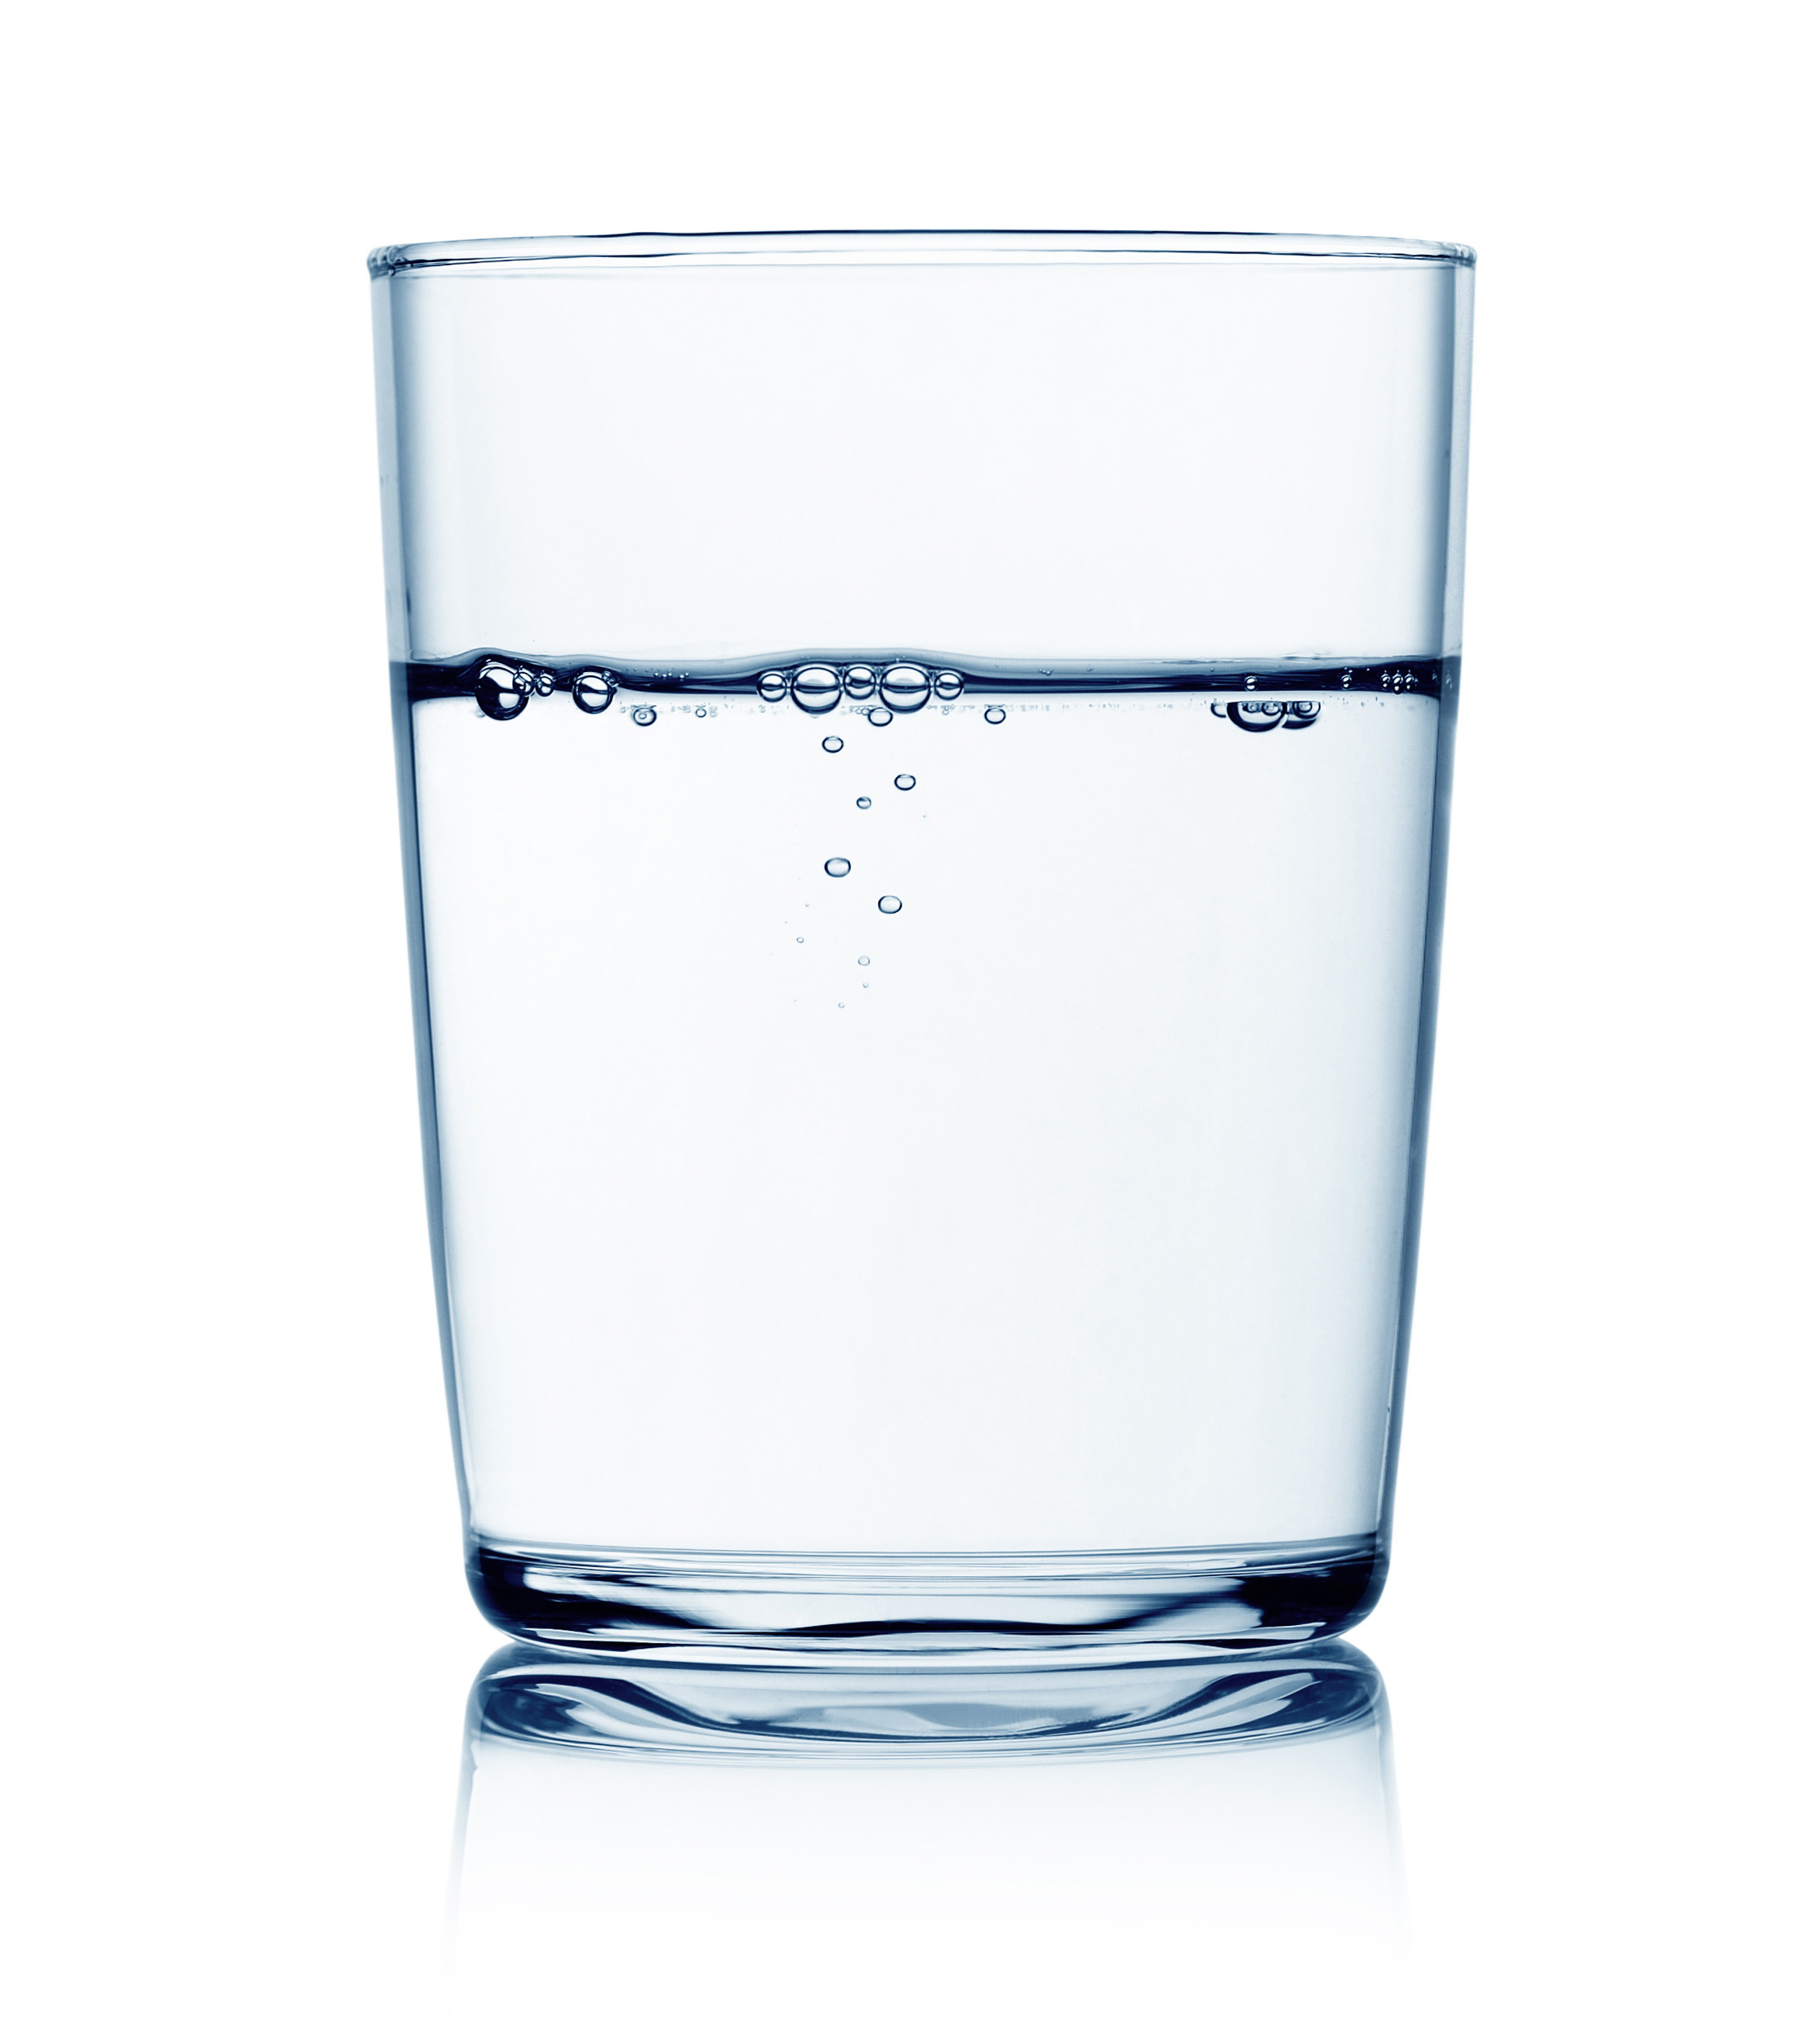glass of water: (396, 264, 1486, 1693)
